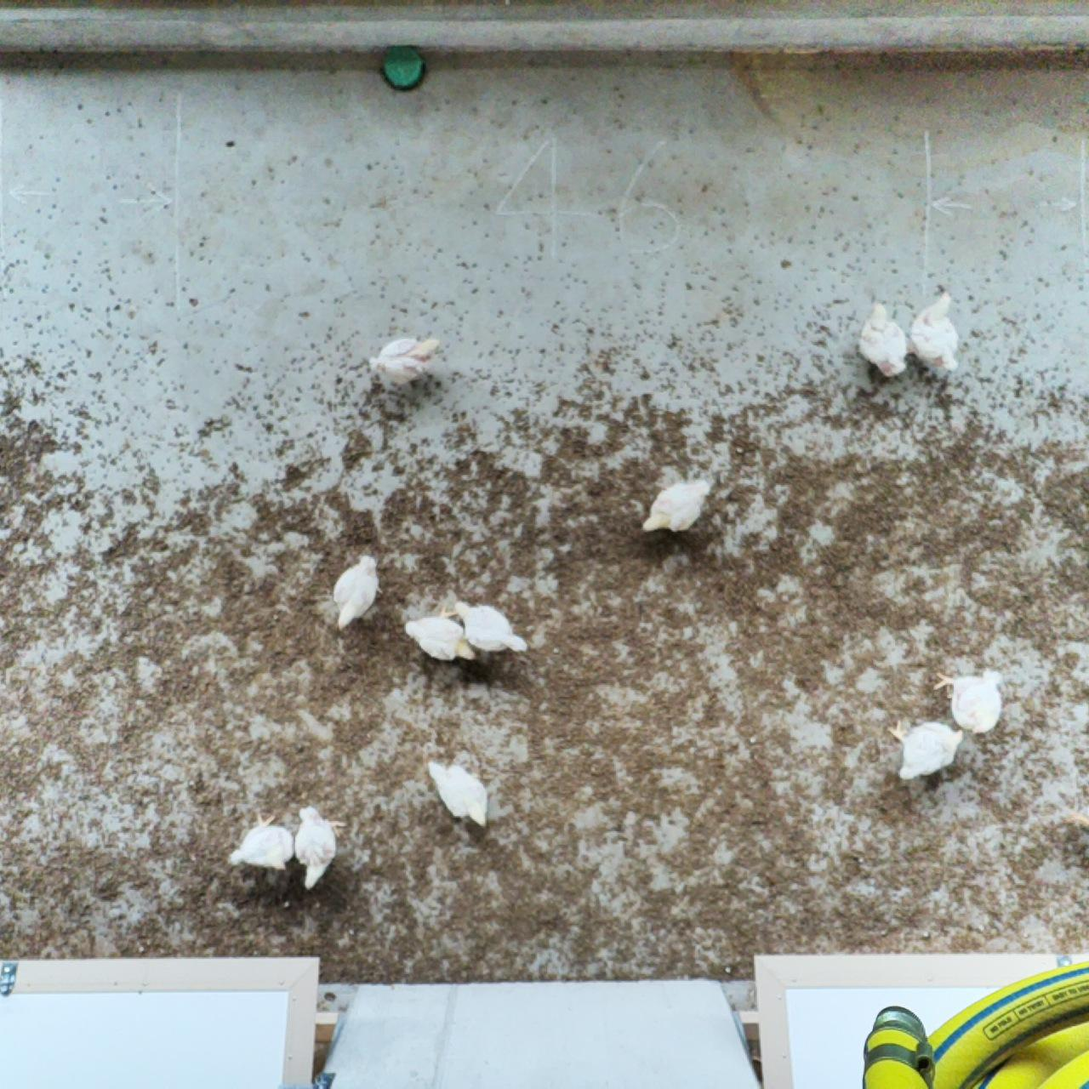chicken: (885, 717, 965, 781), (931, 669, 1006, 735), (293, 803, 348, 892), (425, 758, 492, 831), (907, 289, 963, 376), (403, 603, 480, 662), (452, 598, 530, 655), (331, 553, 385, 634), (857, 299, 911, 379), (640, 476, 712, 535), (228, 810, 296, 872), (367, 335, 443, 386)
